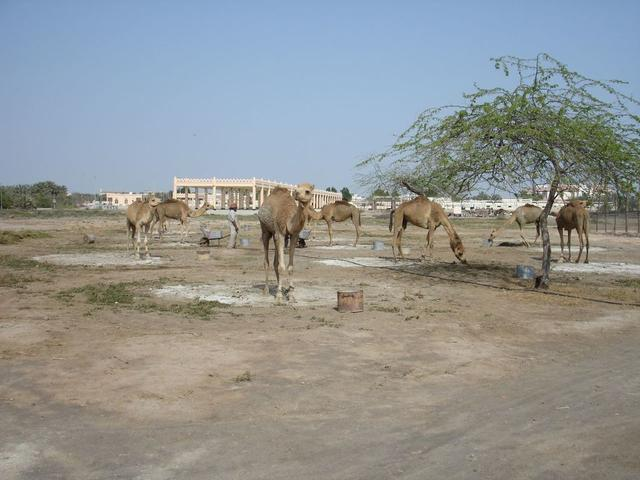camel: (239, 182, 330, 295)
